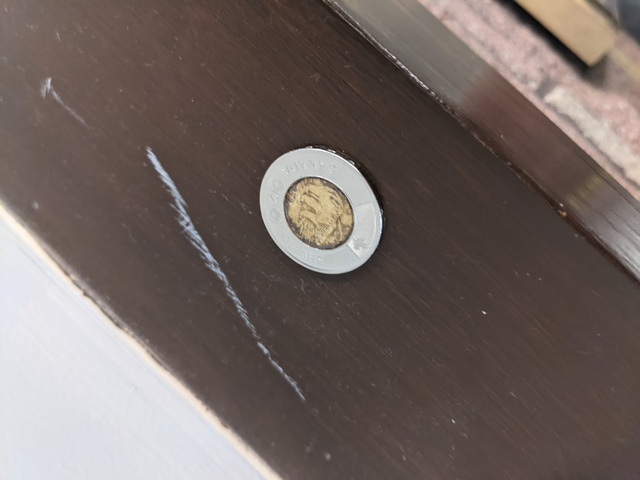twonie: (247, 140, 399, 285)
